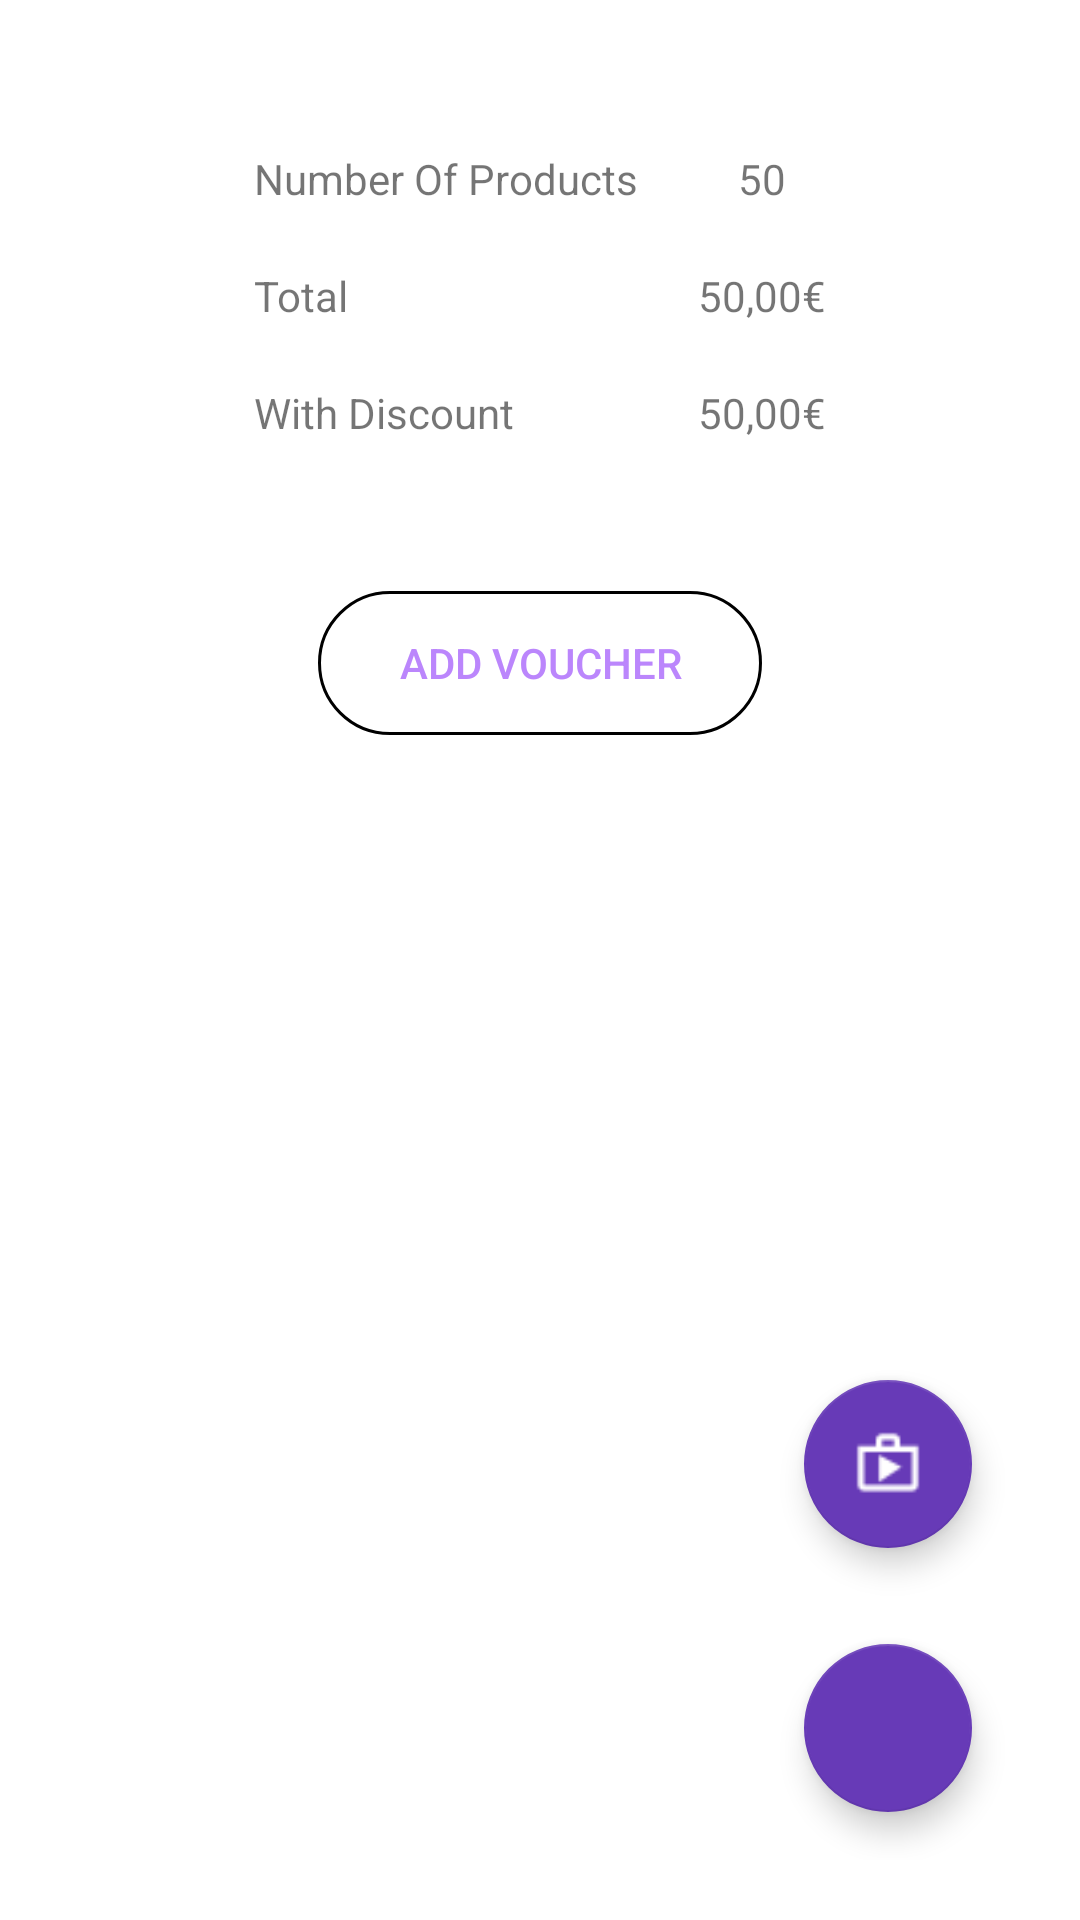

Icon click points for this 1080*1920 phone screenshot, format point (x, y):
shop: point (888, 1464)
